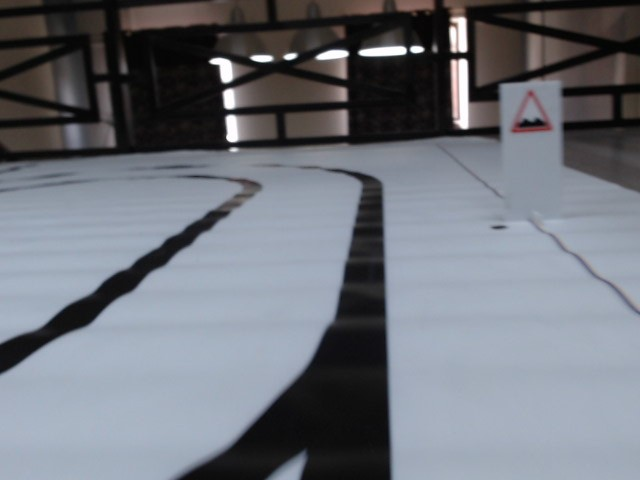Nerov: (507, 89, 556, 137)
